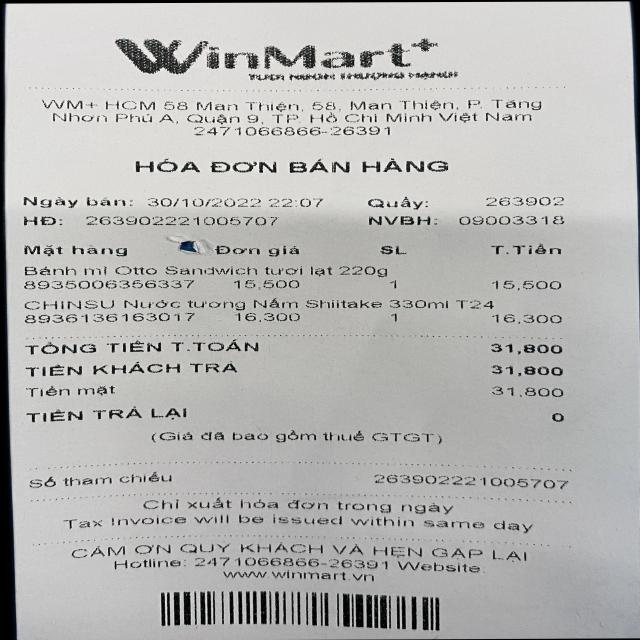Date: (138, 192, 266, 210)
Store_Name: (82, 28, 470, 85)
amount_number: (477, 339, 574, 357)
label_total: (27, 337, 265, 357)
